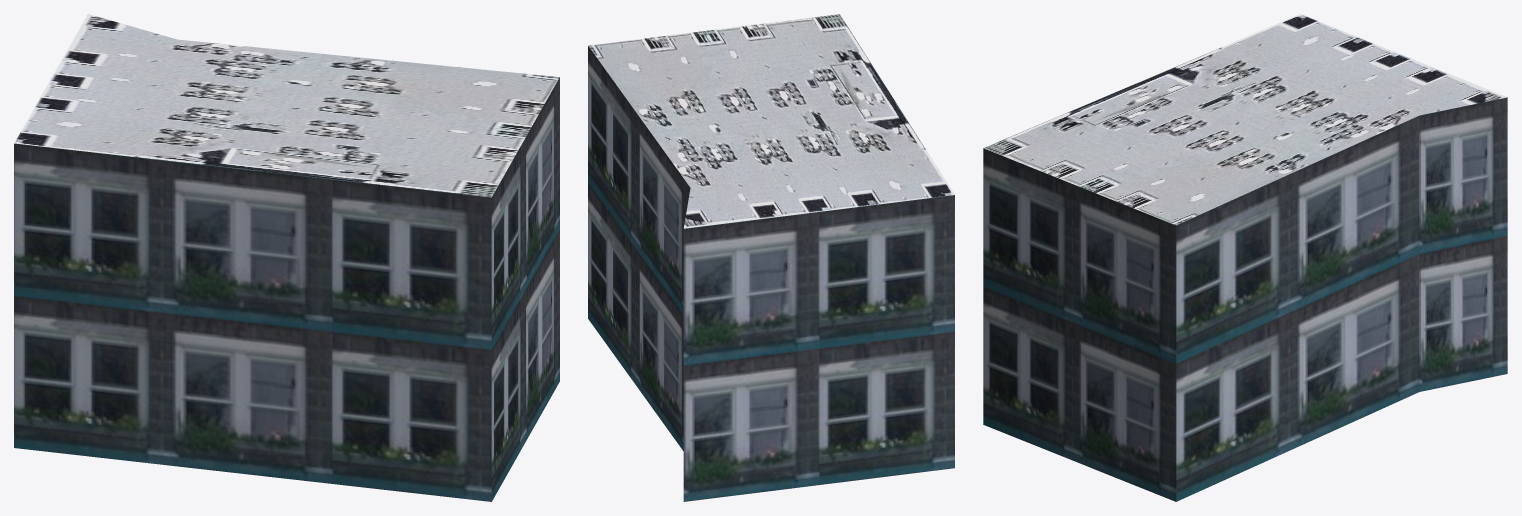
Rendered from ResTex__280.fbx.
The picture shows the model from 3 angles, left to right: view 1: azimuth 30°, elevation 25°; view 2: azimuth 150°, elevation 25°; view 3: azimuth 270°, elevation 25°; orthographic projection. The views are drawn at different scales.
Visible parts, largest first — view 1: CityEngineMaterial_11_m, CityEngineMaterial_8_m; view 2: CityEngineMaterial_11_m, CityEngineMaterial_8_m; view 3: CityEngineMaterial_11_m, CityEngineMaterial_8_m.
Part boxes in pixels (x1=…): CityEngineMaterial_11_m: x1=14, y1=77, x2=559, y2=501; CityEngineMaterial_8_m: x1=14, y1=14, x2=559, y2=197; CityEngineMaterial_11_m: x1=588, y1=46, x2=954, y2=501; CityEngineMaterial_8_m: x1=588, y1=14, x2=954, y2=228; CityEngineMaterial_11_m: x1=983, y1=97, x2=1507, y2=501; CityEngineMaterial_8_m: x1=983, y1=14, x2=1507, y2=225.
Bounding box in the file's own units: 9.84 × 6 × 10.32.
Materials: 2 (2 with a texture image).
